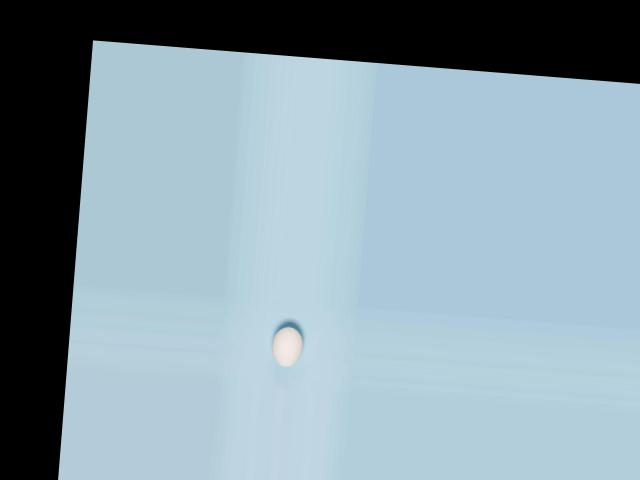egg: (270, 325, 304, 368)
